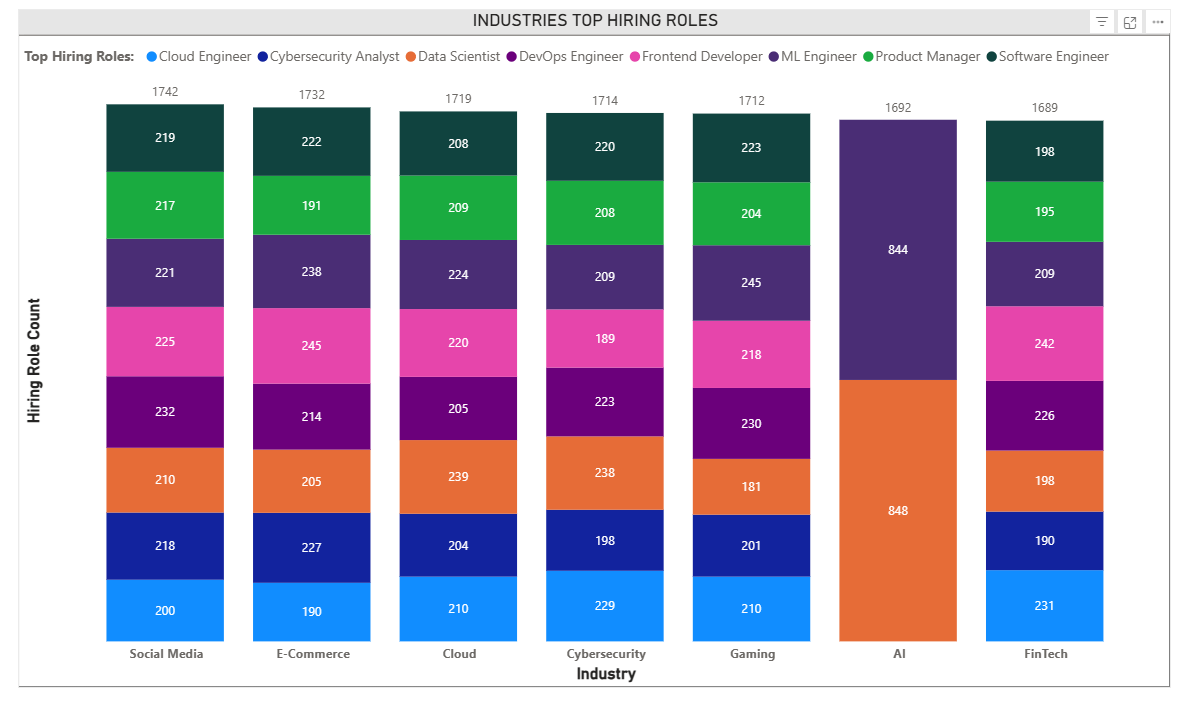

The dashboard page shown, as its layout file describes it:
{"tool":"powerbi","page":{"name":"2","canvas":[1280,720],"ordinal":1},"visuals":[{"type":"columnChart","title":"INDUSTRIES TOP HIRING ROLES","fields":{"Category":["tech_layoffs_hiring_trends_elit.industry"],"Series":["tech_layoffs_hiring_trends_elit.top_hiring_role"],"Y":["CountNonNull(tech_layoffs_hiring_trends_elit.top_hiring_role)"]},"box":[78.8,29.2,1121.5,660.4],"z":0}]}

Visuals, with their boxes on the page's 1280x720 design canvas (x1, y1, x2, y2). These are canvas units, not pixel positions in the 1192x708 screenshot, which may show the page scaled, cropped or inside an application window:
"INDUSTRIES TOP HIRING ROLES" columnChart: locate(79, 29, 1200, 690)
